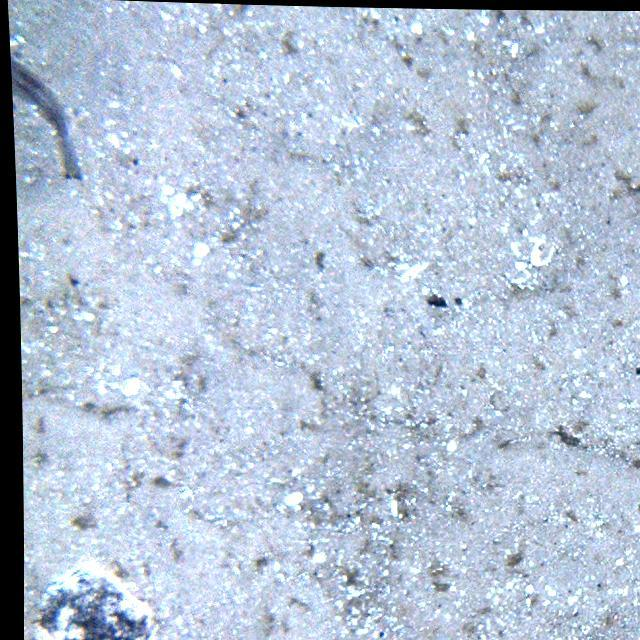roundfish: (11, 48, 93, 180)
